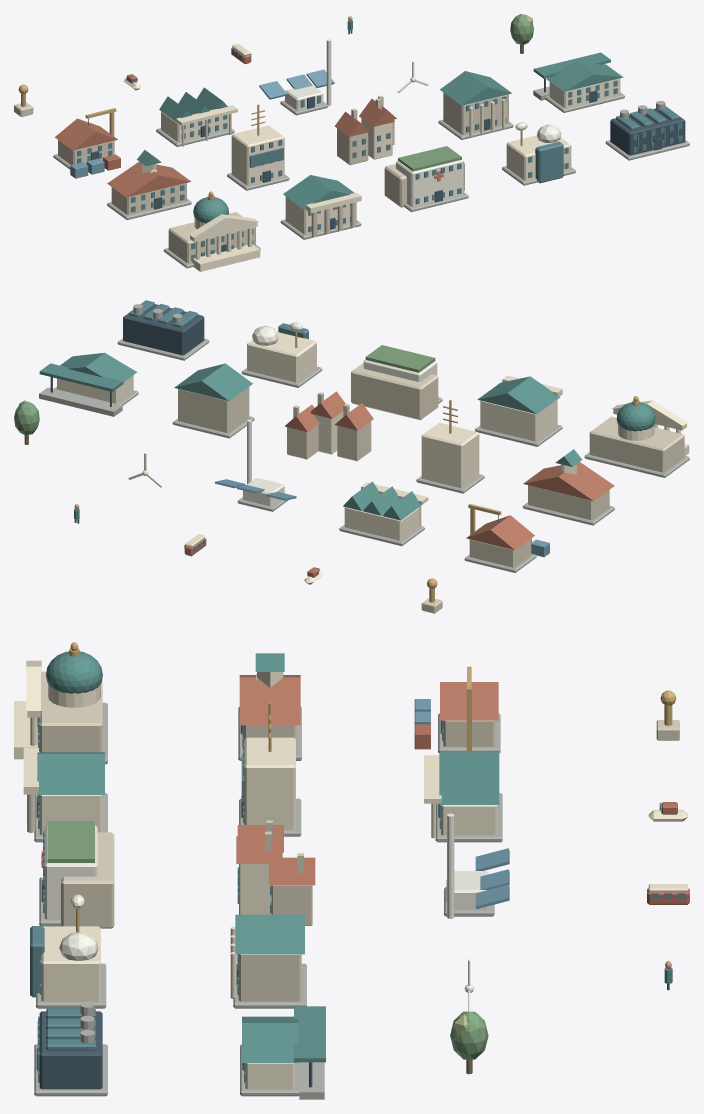
Rendered from republic.glb.
The picture shows the model from 3 angles, top to bottom: view 1: azimuth 30°, elevation 25°; view 2: azimuth 150°, elevation 25°; view 3: azimuth 270°, elevation 25°; orthographic projection. The views are drawn at different scales.
Visible parts, largest first — view 1: asset_parliament, asset_hospital, asset_court, asset_finance, asset_station, asset_school, asset_datacenter, asset_media, asset_library, asset_lab, asset_port, asset_housing (+2 smaller); view 2: asset_parliament, asset_hospital, asset_court, asset_housing, asset_finance, asset_station, asset_school, asset_library, asset_datacenter, asset_lab, asset_media, asset_port (+2 smaller); view 3: asset_parliament, asset_hospital, asset_station, asset_finance, asset_library, asset_datacenter, asset_lab, asset_court, asset_housing, asset_media, asset_port, asset_school (+4 smaller).
Boxes of the visible parts, x1,y1,x2,y2 form: asset_parliament: (163, 191, 260, 271); asset_hospital: (384, 146, 468, 211); asset_court: (280, 175, 361, 239); asset_finance: (438, 71, 513, 139); asset_station: (533, 52, 624, 112); asset_school: (107, 150, 191, 219); asset_datacenter: (605, 100, 689, 160); asset_media: (227, 104, 289, 190); asset_library: (156, 87, 237, 146); asset_lab: (502, 122, 575, 185); asset_port: (53, 108, 120, 178); asset_housing: (334, 95, 396, 165); asset_parliament: (584, 396, 689, 477); asset_hospital: (351, 345, 442, 420); asset_court: (475, 375, 562, 446); asset_housing: (284, 391, 373, 461); asset_finance: (172, 363, 254, 438); asset_station: (39, 352, 138, 416); asset_school: (522, 449, 614, 525); asset_library: (339, 481, 428, 546); asset_datacenter: (117, 300, 209, 360); asset_lab: (241, 322, 322, 387); asset_media: (416, 399, 484, 493); asset_port: (464, 504, 549, 572); asset_parliament: (14, 642, 107, 764); asset_hospital: (39, 821, 114, 928); asset_station: (240, 1006, 325, 1099); asset_finance: (230, 914, 306, 1008); asset_library: (424, 752, 502, 842); asset_datacenter: (34, 1001, 107, 1096); asset_lab: (30, 894, 106, 1008); asset_court: (23, 747, 107, 842); asset_housing: (236, 820, 315, 925); asset_media: (239, 702, 301, 836); asset_port: (414, 666, 500, 752); asset_school: (238, 653, 301, 760).
Bounding box in the file's own units: 13.98 × 2.21 × 10.19.
